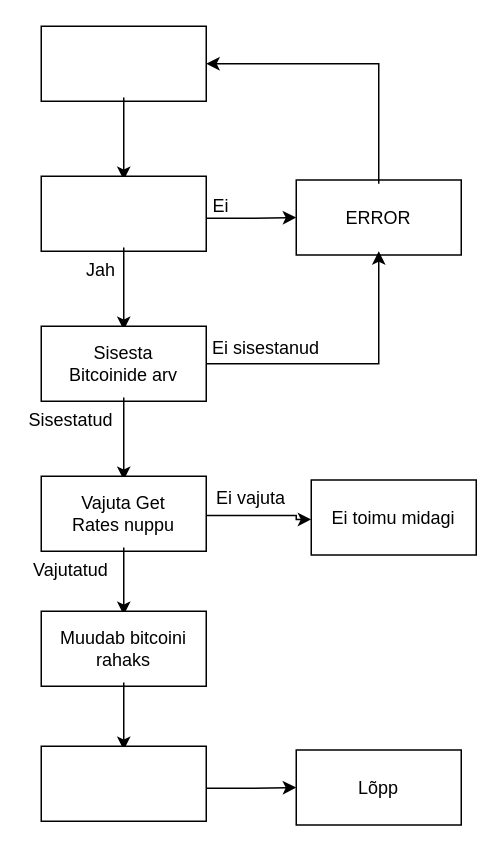
Some shapes in this 503 by 852 pixel diagram are drawn without their labels. The centre of each missing label's shape, as x and y in pixels:
"Kas currency on valitud?" goes at pixel 123 213.
"Näitab tulemust" goes at pixel 123 783.
"Start" goes at pixel 123 63.
